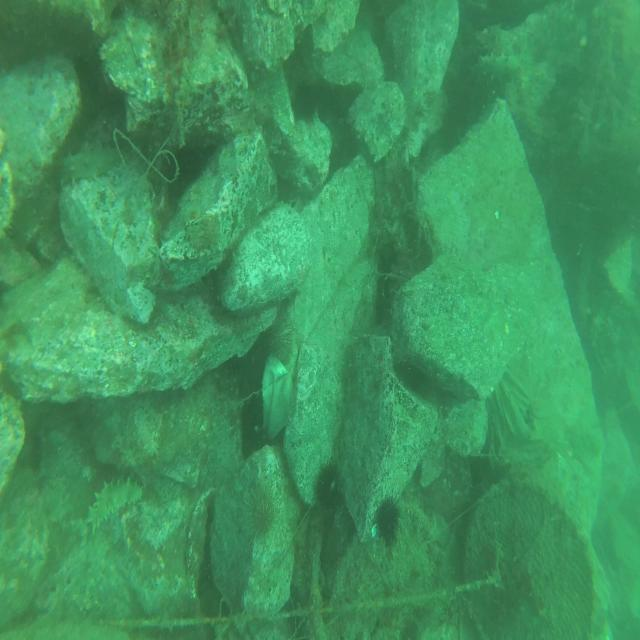echinus: (311, 461, 344, 515), (372, 496, 401, 554), (240, 396, 266, 456)
holothurian: (55, 140, 129, 187), (83, 475, 143, 532), (472, 45, 526, 89)
